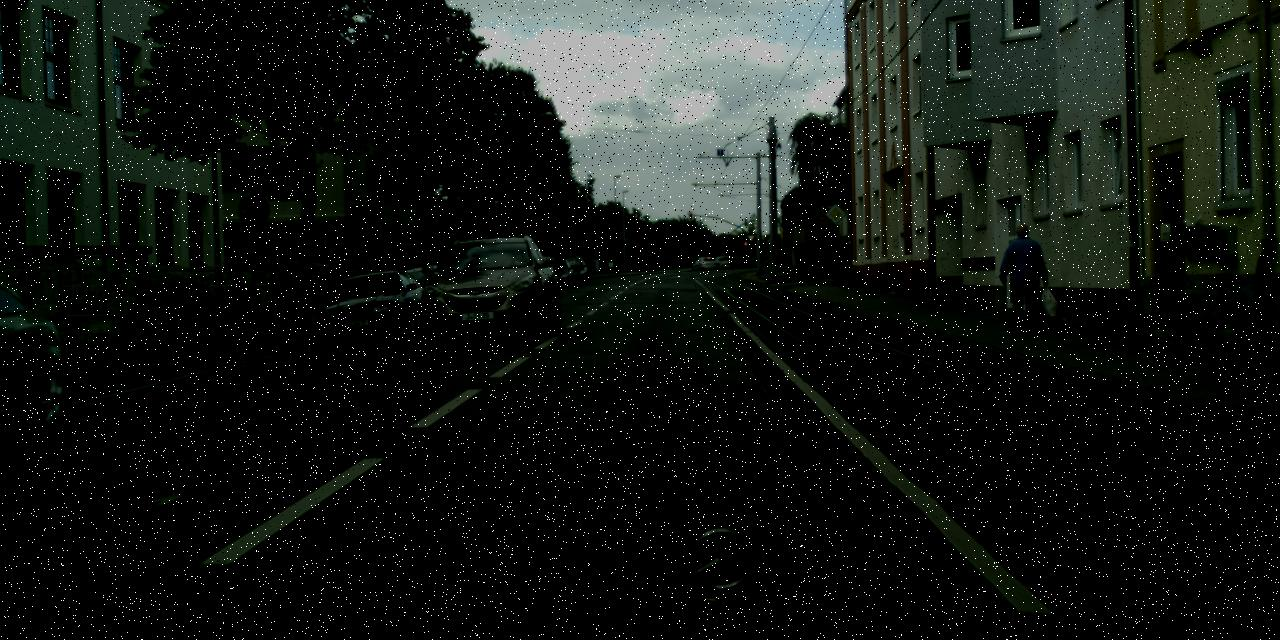ped: (1001, 223, 1045, 330)
